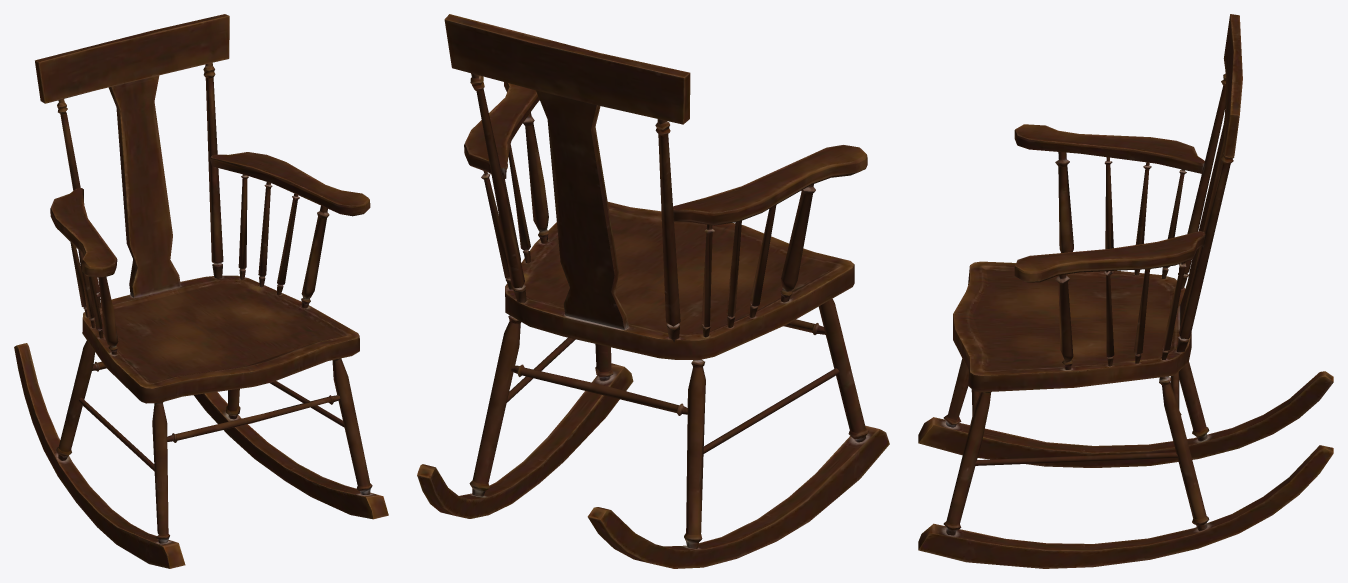
Rendered from Rockingchair_01.glb.
3 renders of one model, left to right at view 1: azimuth 30°, elevation 25°; view 2: azimuth 150°, elevation 25°; view 3: azimuth 270°, elevation 25°, orthographic. The views are drawn at different scales.
Visible parts, largest first — view 1: Rockingchair_01; view 2: Rockingchair_01; view 3: Rockingchair_01.
Part boxes in pixels (box(x1,y1,x2,y2)): Rockingchair_01: box(14, 14, 388, 568); Rockingchair_01: box(417, 14, 889, 568); Rockingchair_01: box(918, 14, 1333, 568).
Size of the model in its own units: 0.7081 by 0.9949 by 0.8335.
1 material, 1 textured.
